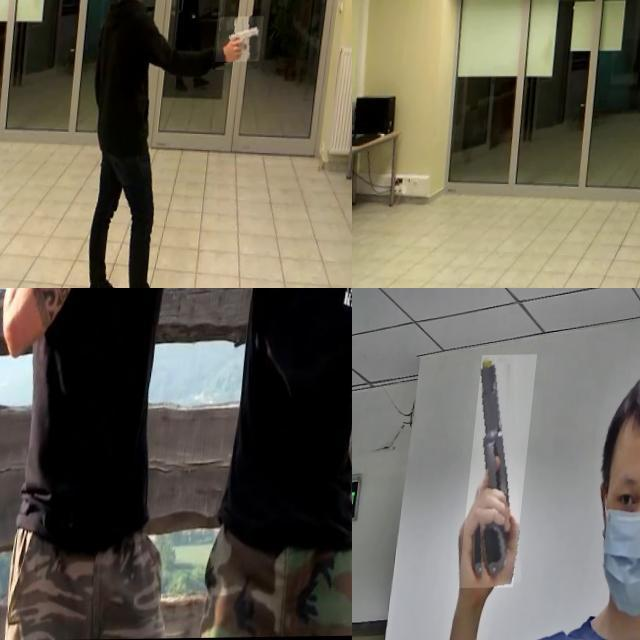-: (0, 288, 69, 324)
gun-knife-thesis - v11 Yolov5 augmented: (468, 356, 542, 588), (223, 18, 271, 64)
